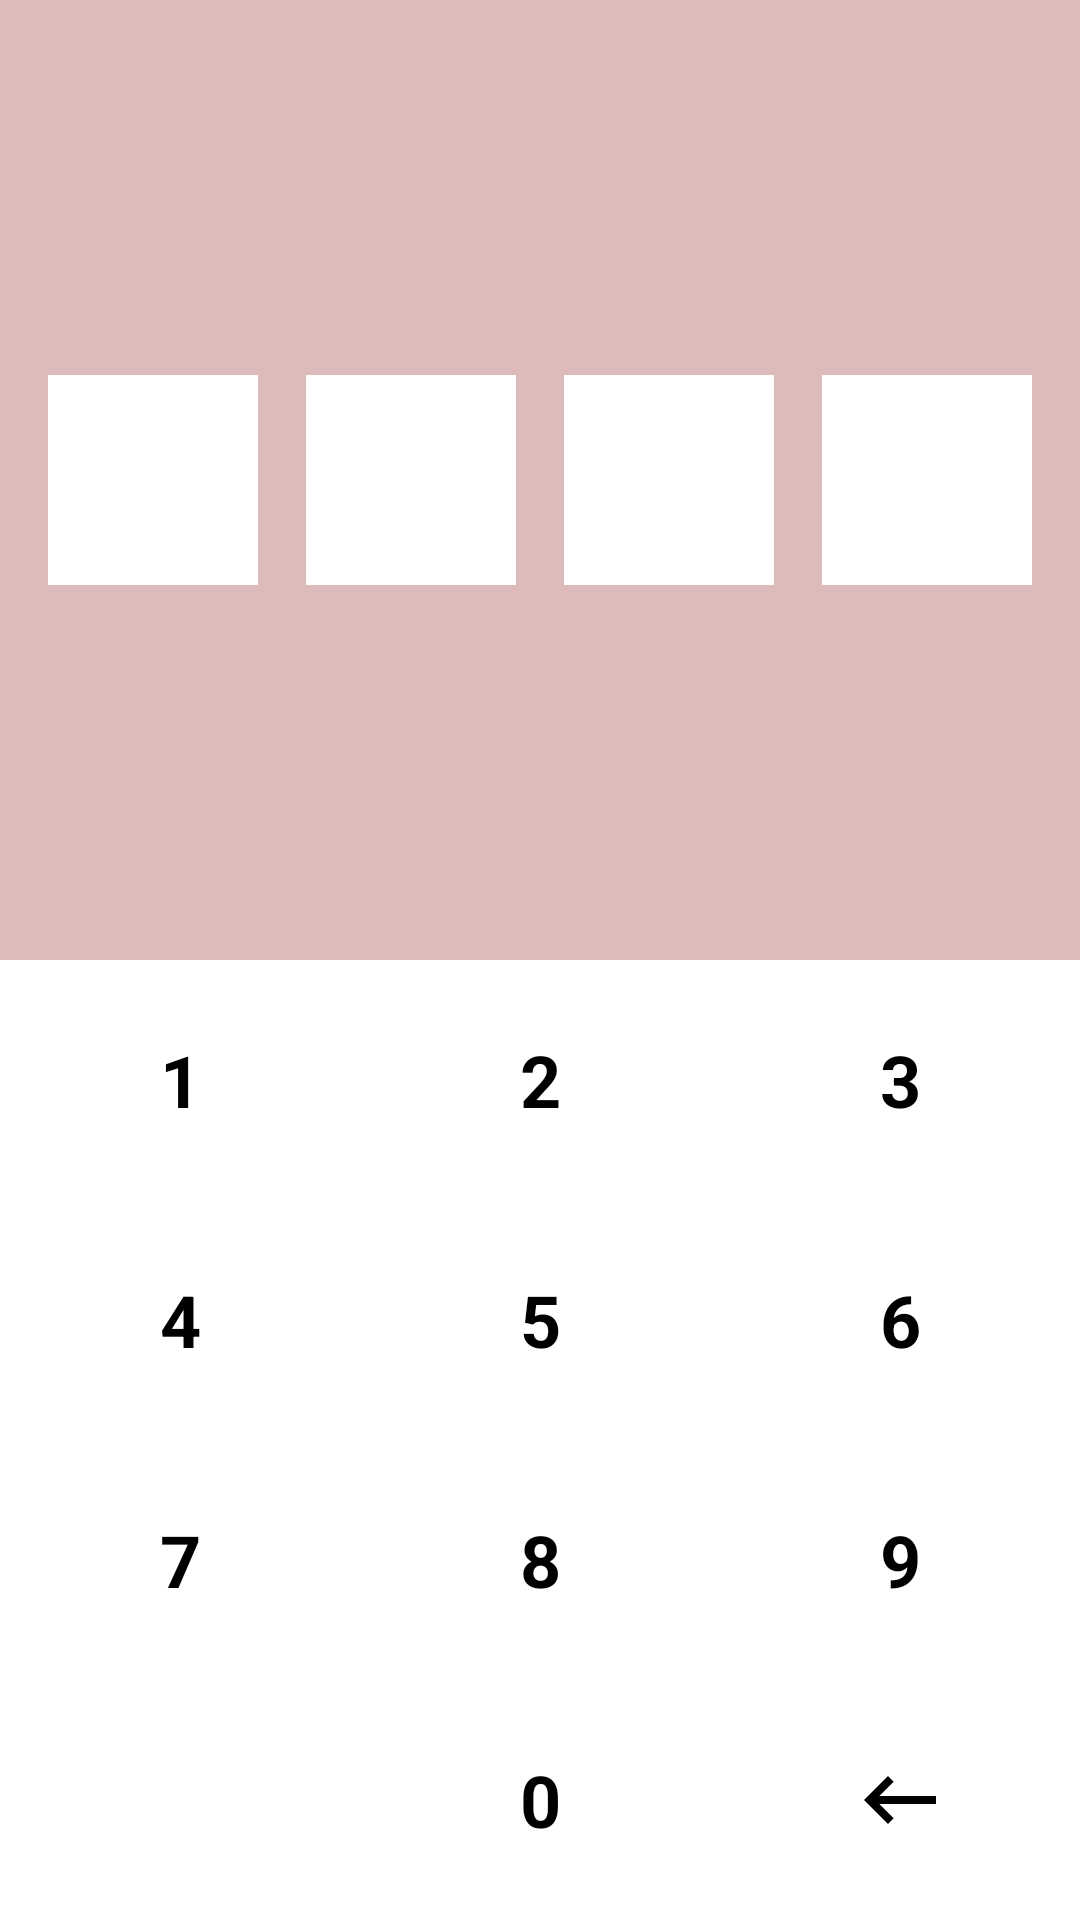

Locate icon controls on the screen. Image size 1080w x 1920h, boxes as {"left": x1, "top": y1, "right": x2, "bottom": y2}.
keyboard backspace: {"left": 864, "top": 1776, "right": 936, "bottom": 1824}
